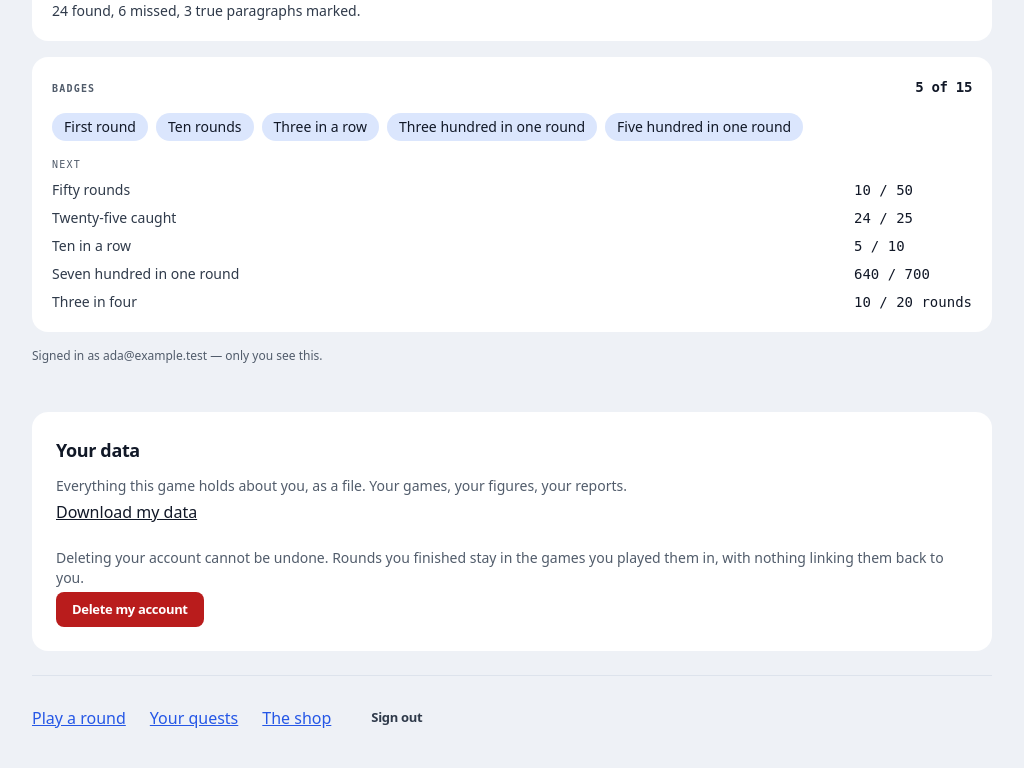
it: E.7 — your data › says nothing changed when the delete fails
The width and height of the screenshot is (1024, 768).
(page scrolled)
Click the button "Delete my account".
click(130, 609)  # box [56,592,204,627]
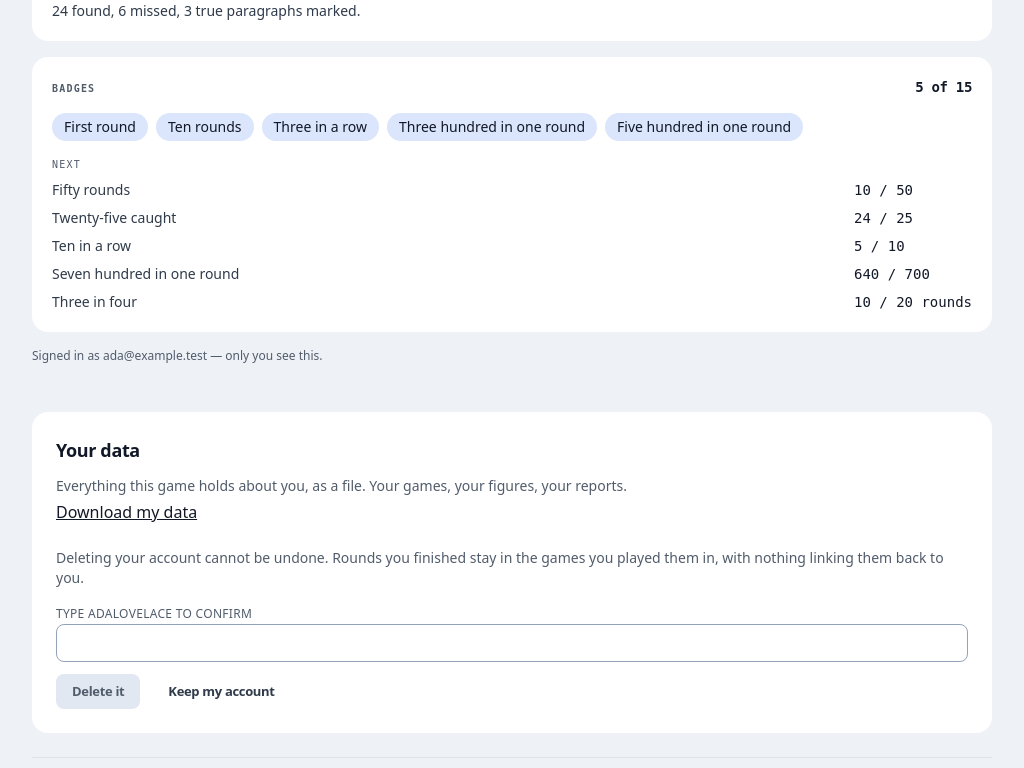
Type "AdaLovelace" into the field labelled "Type AdaLovelace to confirm".
click(512, 642); type("AdaLovelace")  # box [56,624,968,662]
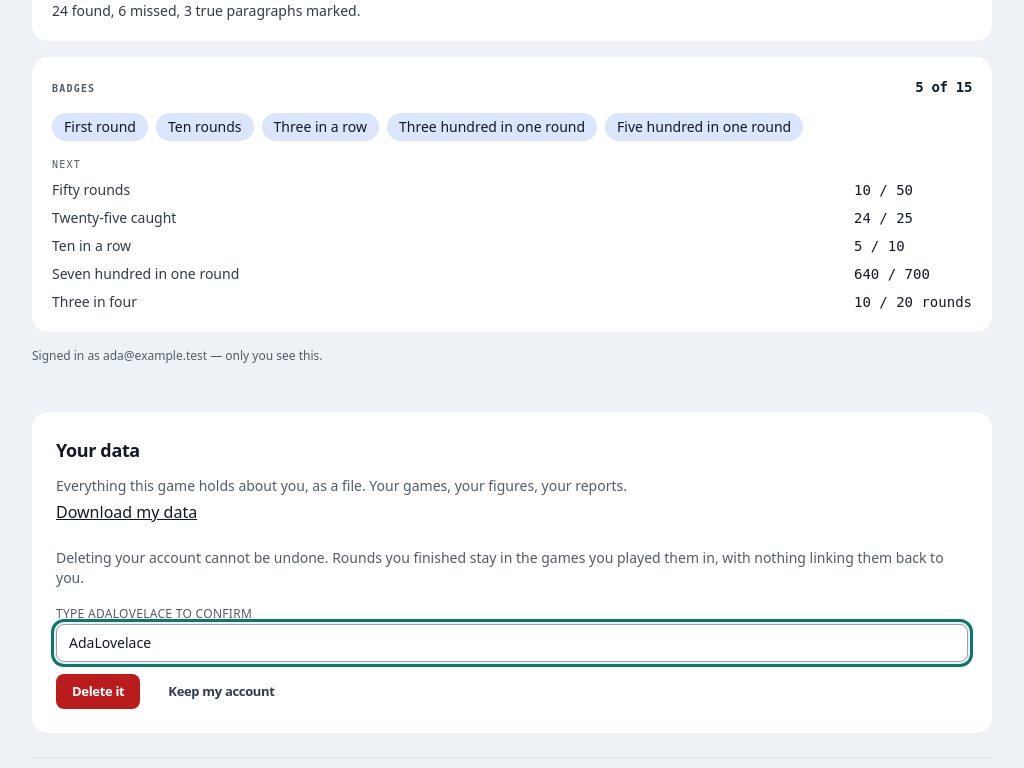
Click the button "Delete it".
click(98, 691)  # box [56,674,140,709]
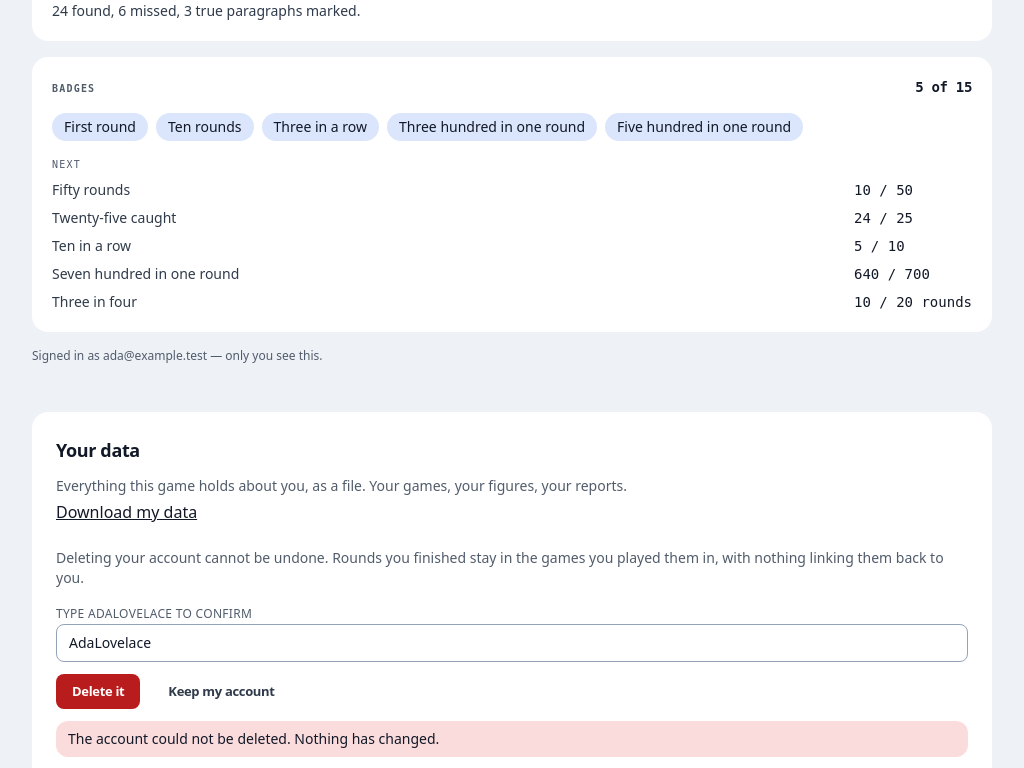
Now the message shows "Nothing has changed", box [68,729,439,748]
